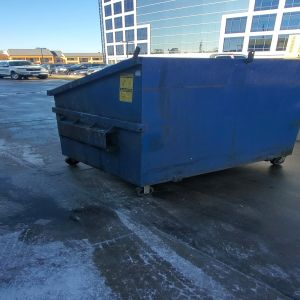Dumpster: (53, 55, 300, 198)
